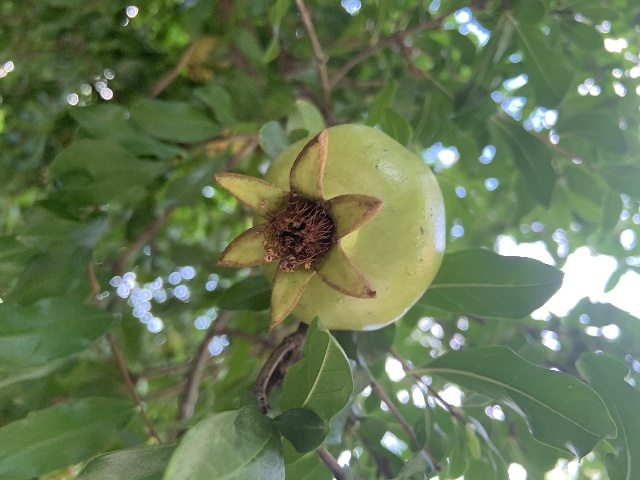mid-growth: (211, 123, 447, 341)
